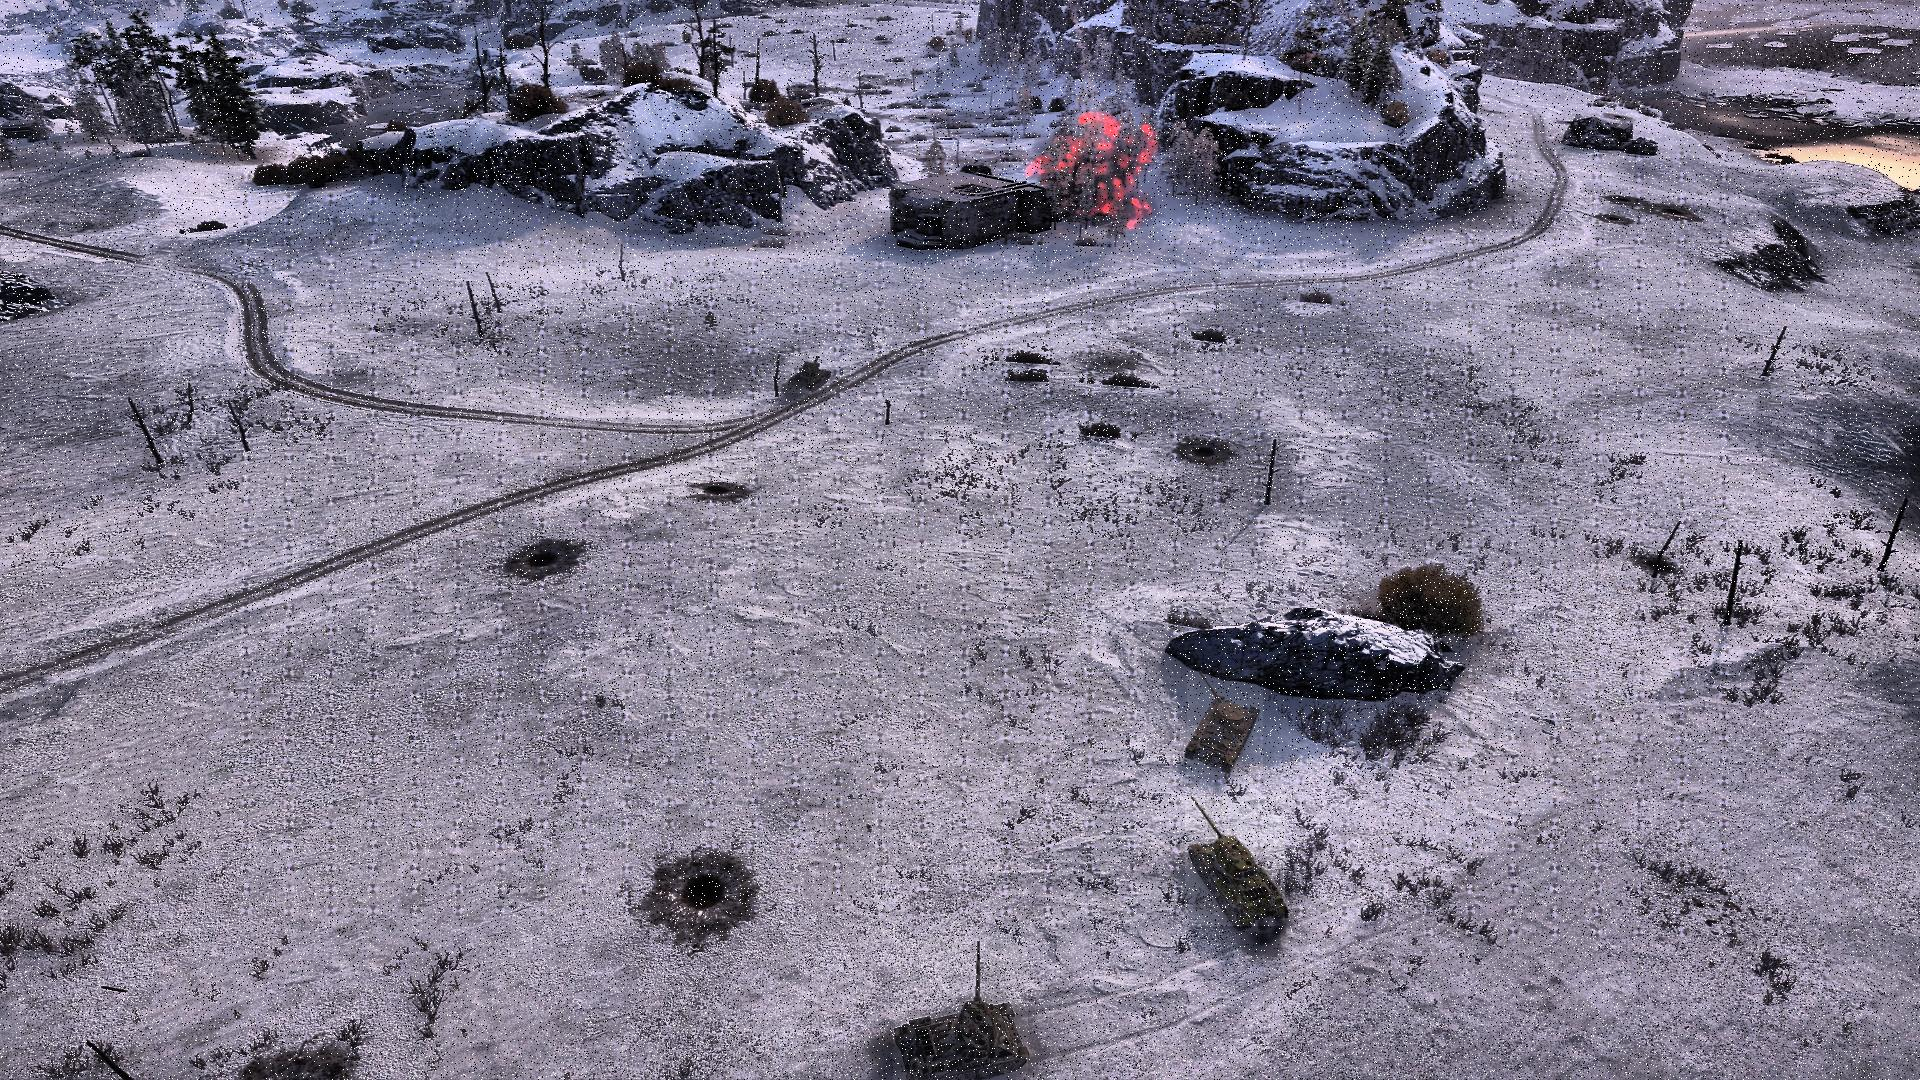military-vehicle: (893, 938, 1029, 1080), (1185, 796, 1284, 927), (1187, 670, 1263, 775), (785, 353, 829, 393)
